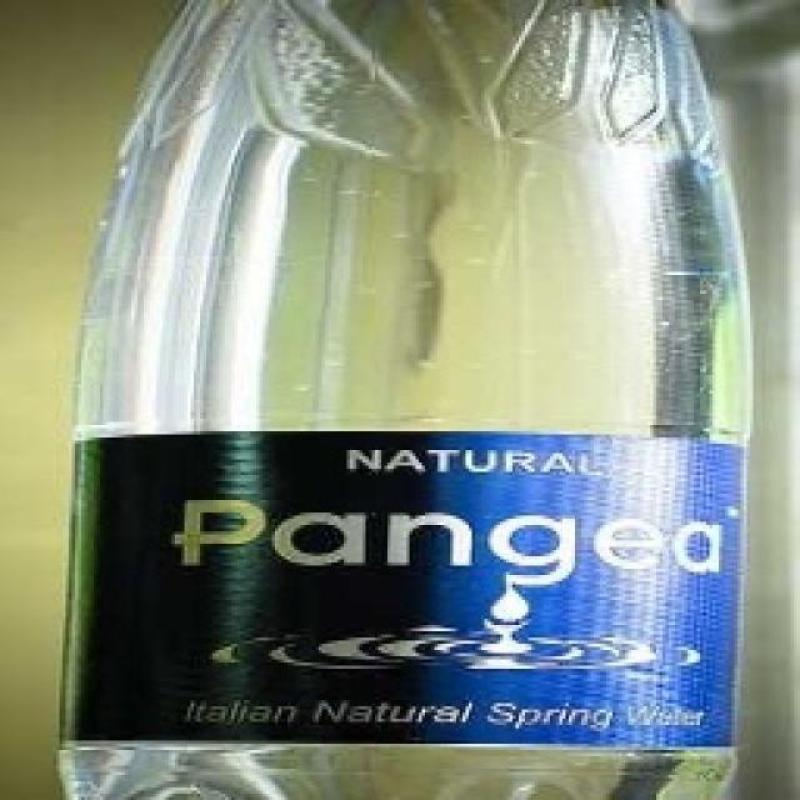botella: (51, 0, 755, 800)
